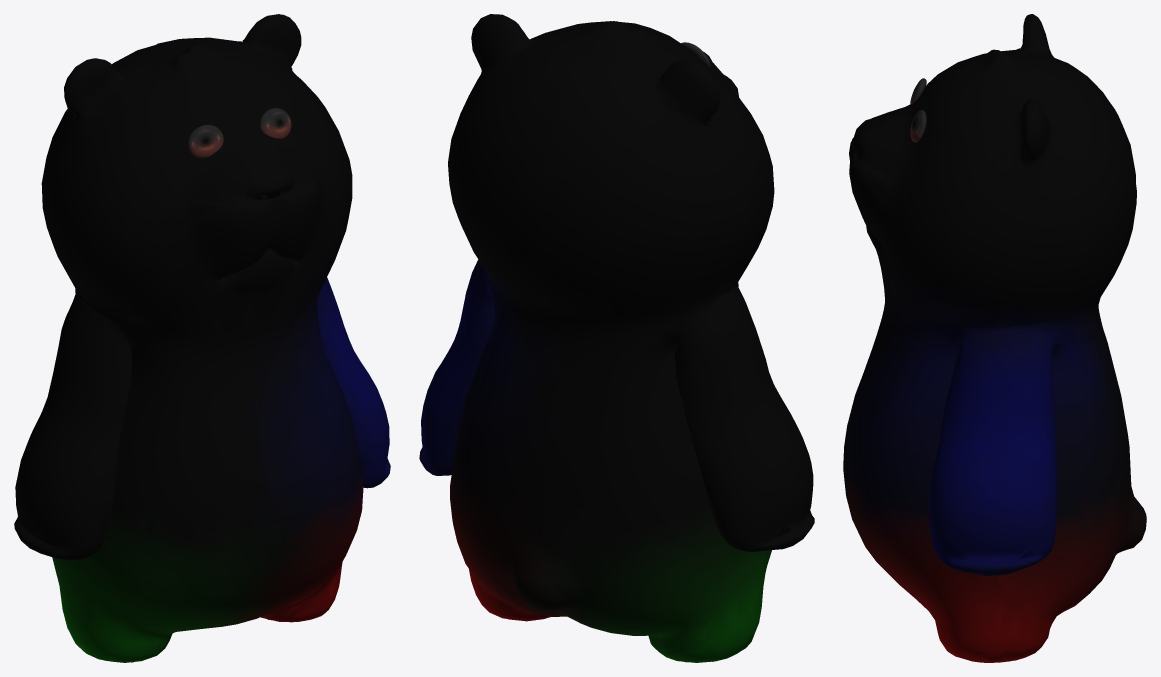
The model's file is bear_shell_v9.glb.
The picture shows the model from 3 angles, left to right: view 1: azimuth 30°, elevation 25°; view 2: azimuth 150°, elevation 25°; view 3: azimuth 270°, elevation 25°; orthographic projection. The views are drawn at different scales.
Parts seen in each view (by area): view 1: BoundedShellGroom, Body, BrownBear_Normal; view 2: BoundedShellGroom, Body; view 3: BoundedShellGroom, Body, BrownBear_Normal.
Boxes of the visible parts, x1,y1,x2,y2 form: BoundedShellGroom: (14,14,390,662); Body: (15,18,383,660); BrownBear_Normal: (188,108,291,158); BoundedShellGroom: (419,14,814,662); Body: (421,14,810,652); BoundedShellGroom: (843,14,1146,662); Body: (844,17,1139,640); BrownBear_Normal: (910,78,926,142).
Size of the model in its own units: 1.59 by 2.44 by 1.21.
Materials: 3 (3 with a texture image).
